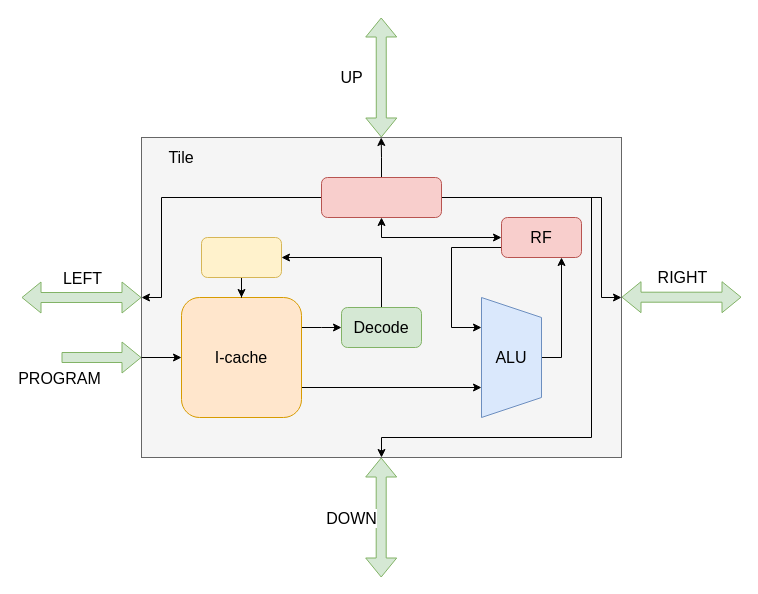
Some shapes in this 758 by 594 pixel diagram are drawn without their labels. Each missing label, with the box of its shape:
PC: (200, 236, 282, 278)
TileIO: (320, 176, 442, 218)
